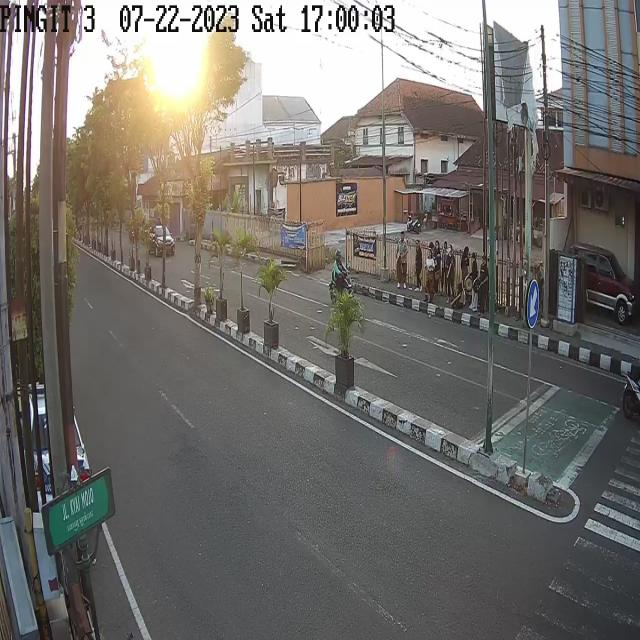car: (574, 245, 638, 328), (153, 226, 176, 250)
motorcycle: (330, 243, 352, 311)
